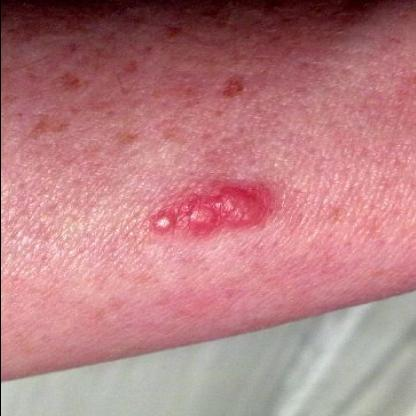Fire ant: (138, 173, 280, 245)
